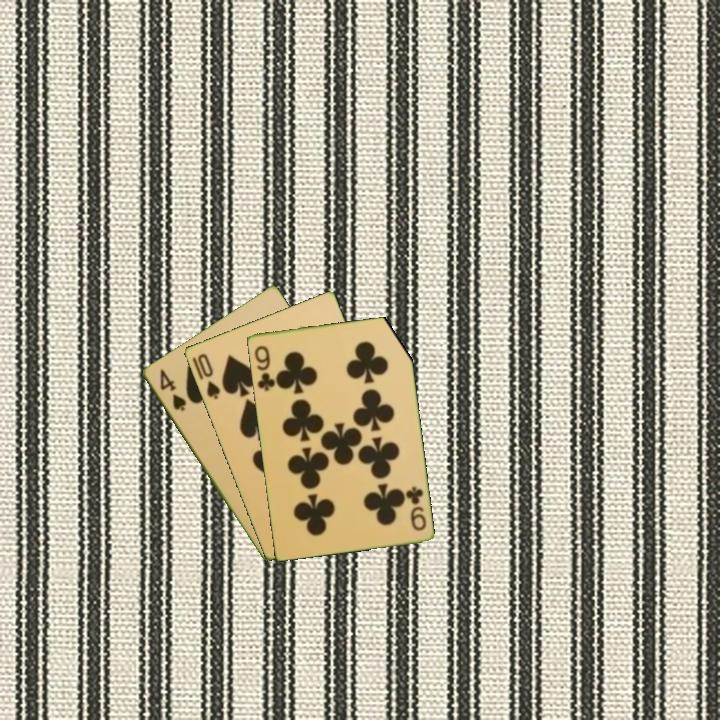10s: (194, 350, 223, 402)
4s: (156, 365, 189, 414)
9c: (250, 342, 278, 394), (402, 483, 429, 533)
